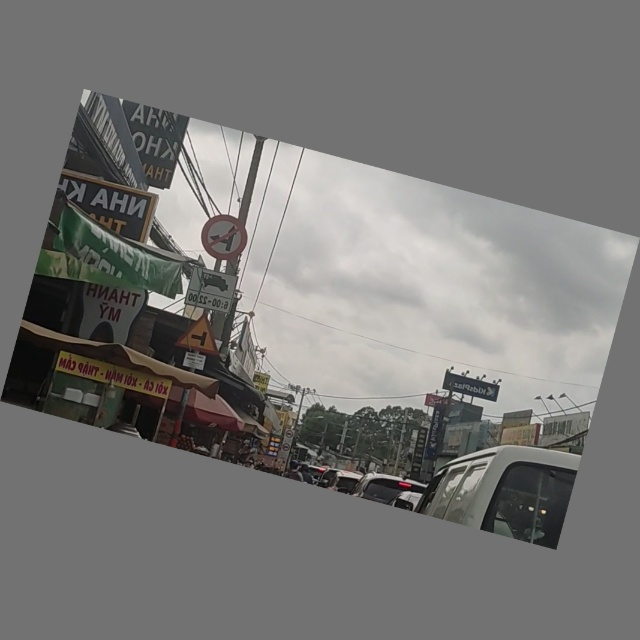P.139: (197, 211, 252, 266)
S.505a*Xe tai: (184, 266, 239, 313)
W.205b: (174, 309, 229, 357)
